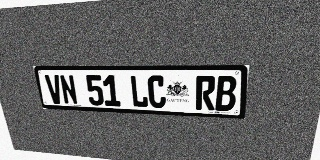1: (101, 75, 121, 106)
5: (85, 75, 105, 106)
B: (215, 76, 237, 111)
C: (147, 75, 166, 108)
L: (129, 75, 149, 108)
N: (59, 75, 78, 105)
R: (196, 76, 216, 110)
V: (44, 75, 64, 104)
